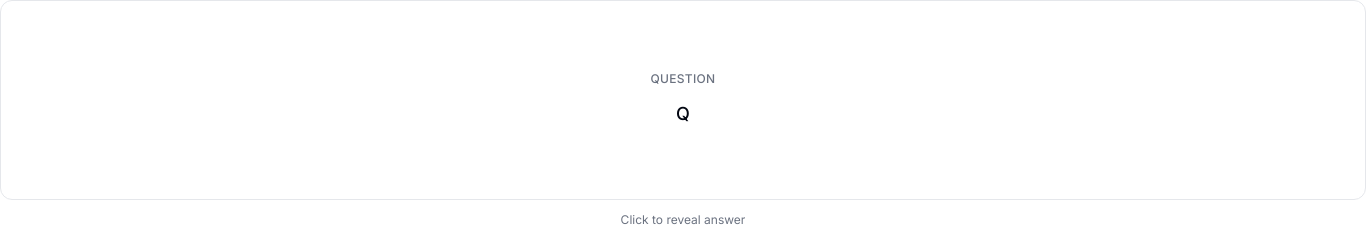
Scenario: CardViewer › shows 'Click to see question' after flip
Click the text "Click to reveal answer".
click(683, 114)  # box x1=0 y1=0 x2=1365 y2=228
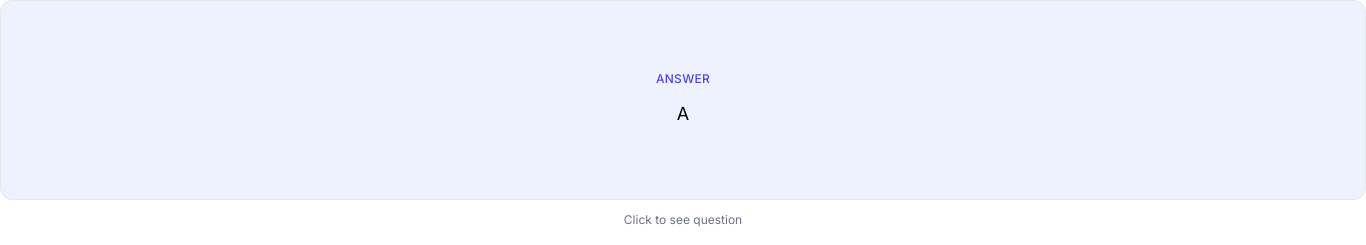
Expected: the text "Click to see question" is shown, x1=624 y1=212 x2=742 y2=227
